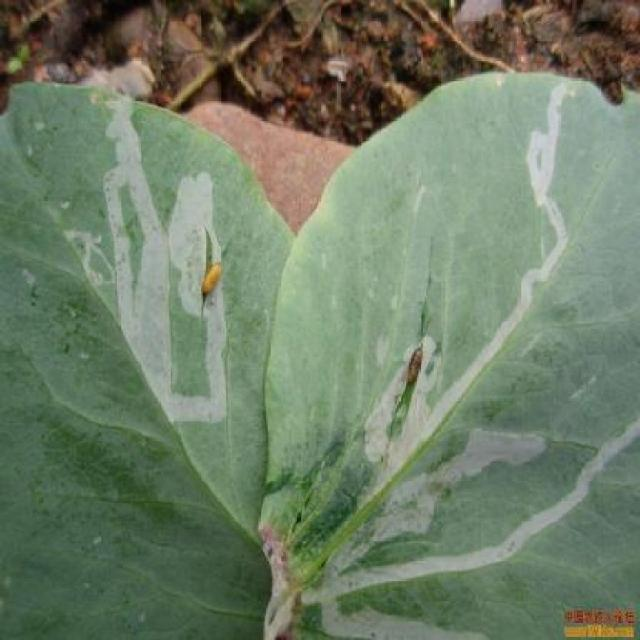whorl-maggot: (197, 254, 232, 308), (403, 335, 428, 388)
